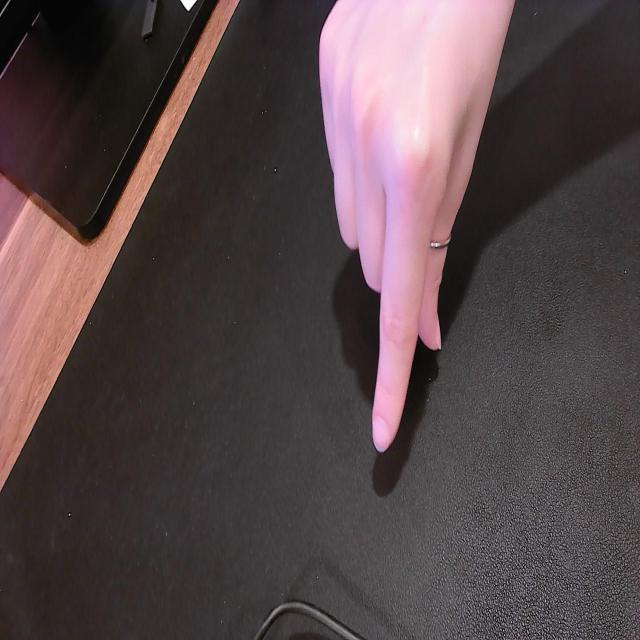Q: (317, 0, 518, 457)
